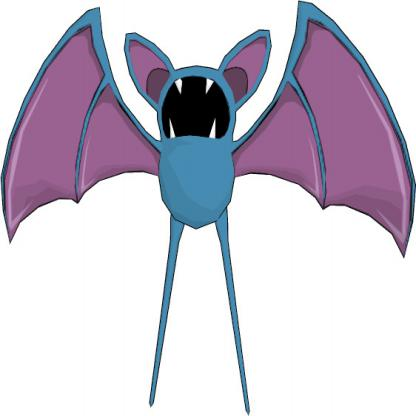Zubat: (1, 8, 416, 408)
